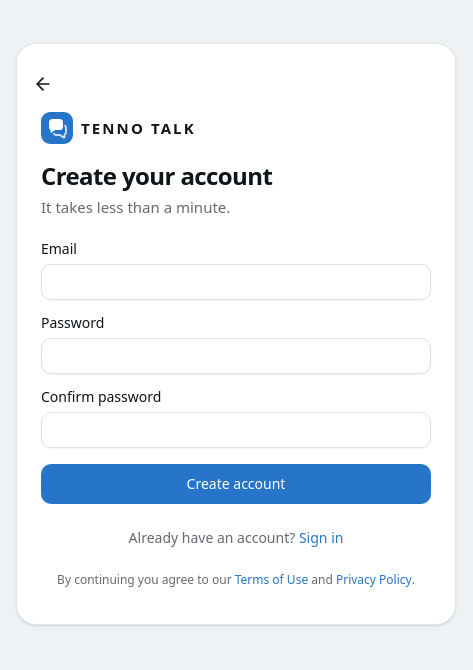
Test: email + password › validates the sign-up form
The width and height of the screenshot is (473, 670).
Click the button "Create account" at (236, 484), box [41, 464, 431, 504]
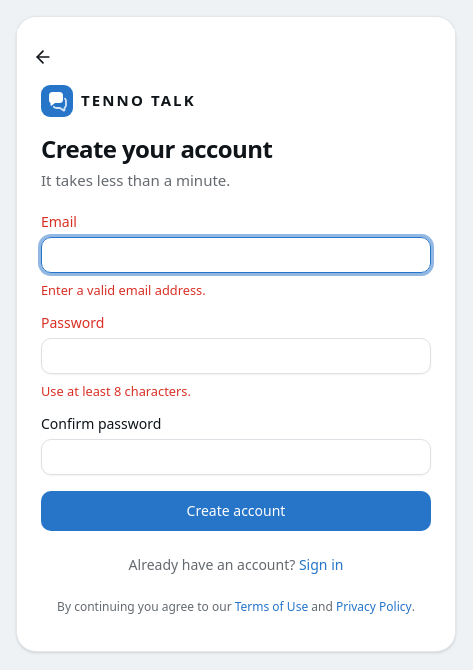
Expected: the text "Enter a valid email address." is shown, [41, 281, 206, 299]
Expected: the text "Use at least 8 characters." is shown, [41, 382, 191, 400]
